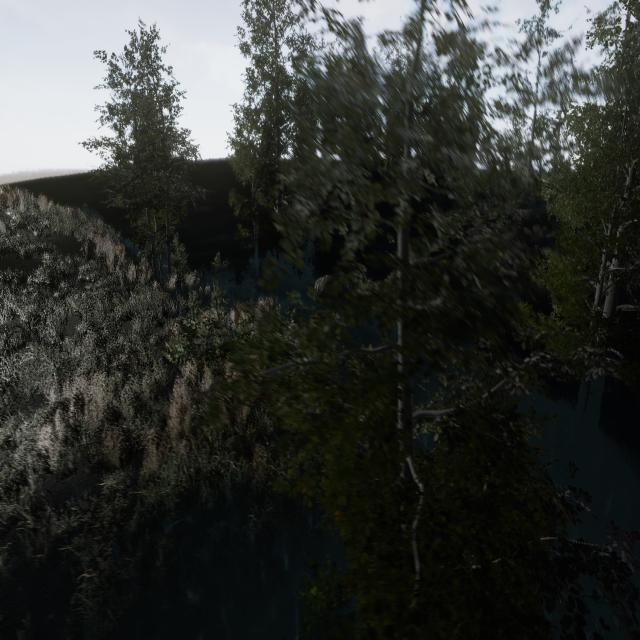Human: (289, 305, 302, 346)
